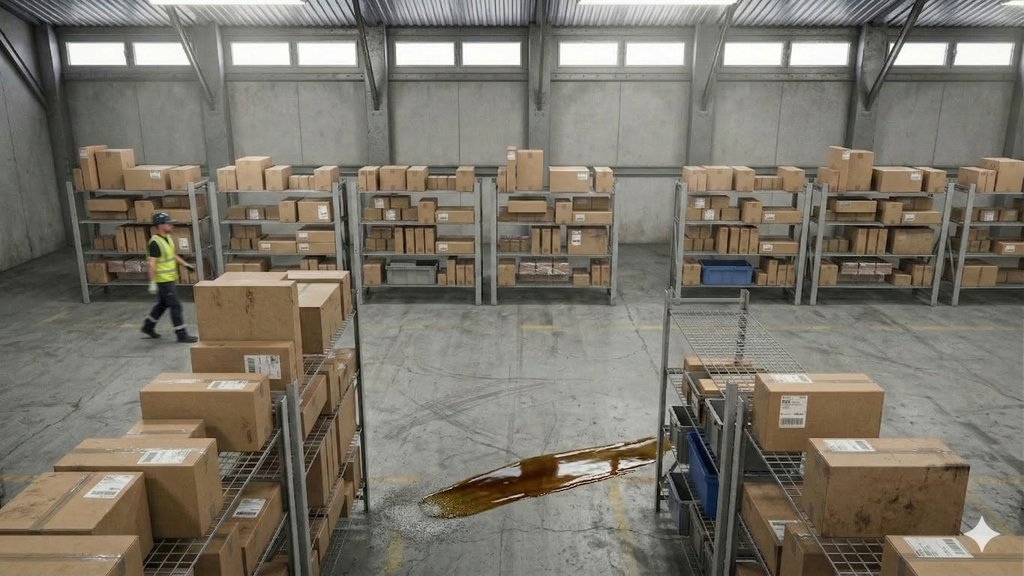empty_shelf: (676, 285, 801, 391)
person: (124, 203, 194, 344)
safety_helmet: (141, 208, 177, 229)
safety_vest: (136, 235, 183, 289)
spill: (399, 432, 659, 530)
